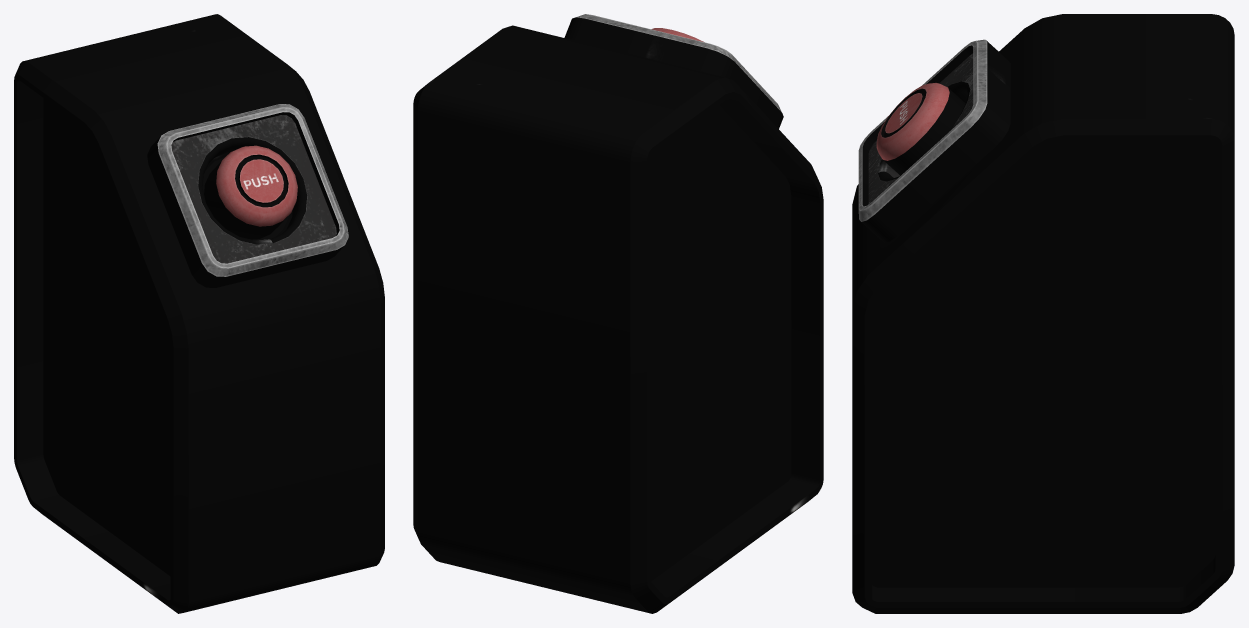
The model's file is exhibit buttonV3.fbx.
3 views of the same model, side by side, from view 1: azimuth 30°, elevation 25°; view 2: azimuth 150°, elevation 25°; view 3: azimuth 270°, elevation 25° (orthographic). The views are drawn at different scales.
Parts seen in each view (by area): view 1: switch; view 2: switch; view 3: switch.
Boxes of the visible parts, x1=… form: switch: x1=14, y1=14, x2=384, y2=613; switch: x1=413, y1=14, x2=823, y2=613; switch: x1=852, y1=14, x2=1234, y2=613.
Size of the model in its own units: 100 by 200 by 140.
Materials: 1 (1 with a texture image).
